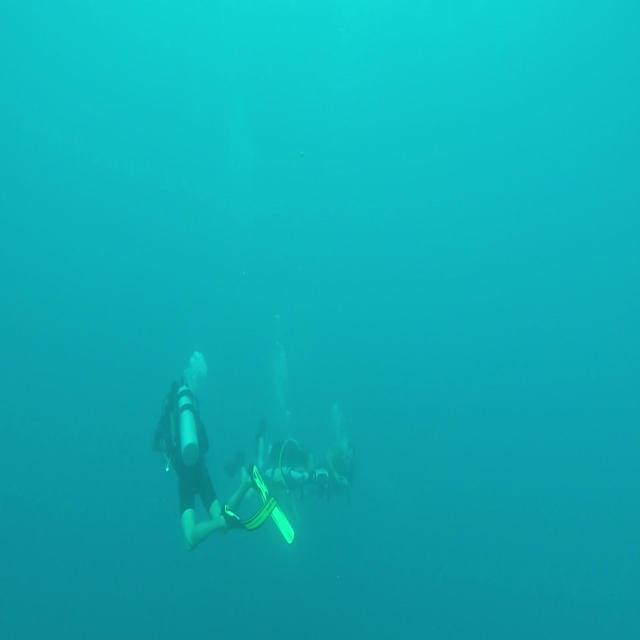human: (152, 375, 228, 550), (223, 418, 330, 527)
